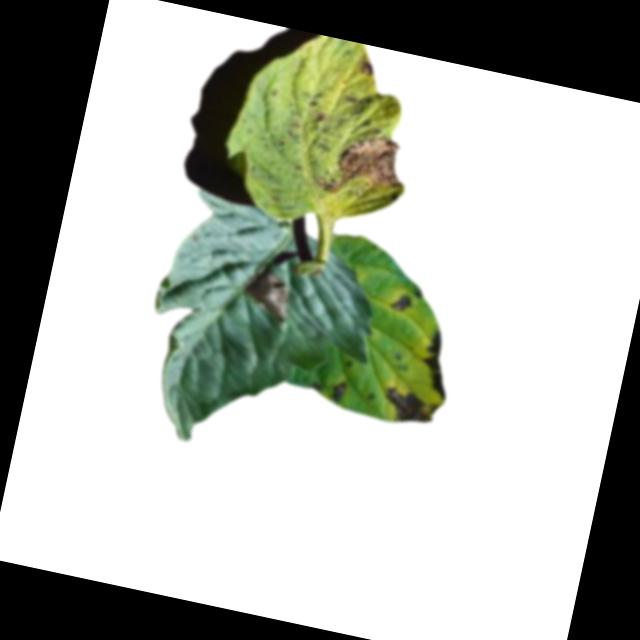Early_blight: (314, 125, 414, 209), (240, 265, 299, 324), (415, 329, 461, 401), (378, 384, 445, 432), (384, 293, 415, 317), (356, 55, 378, 83), (328, 378, 349, 405)
